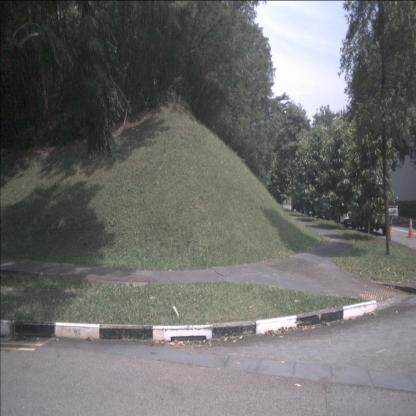cone: (406, 218, 416, 238), (388, 220, 394, 233)
